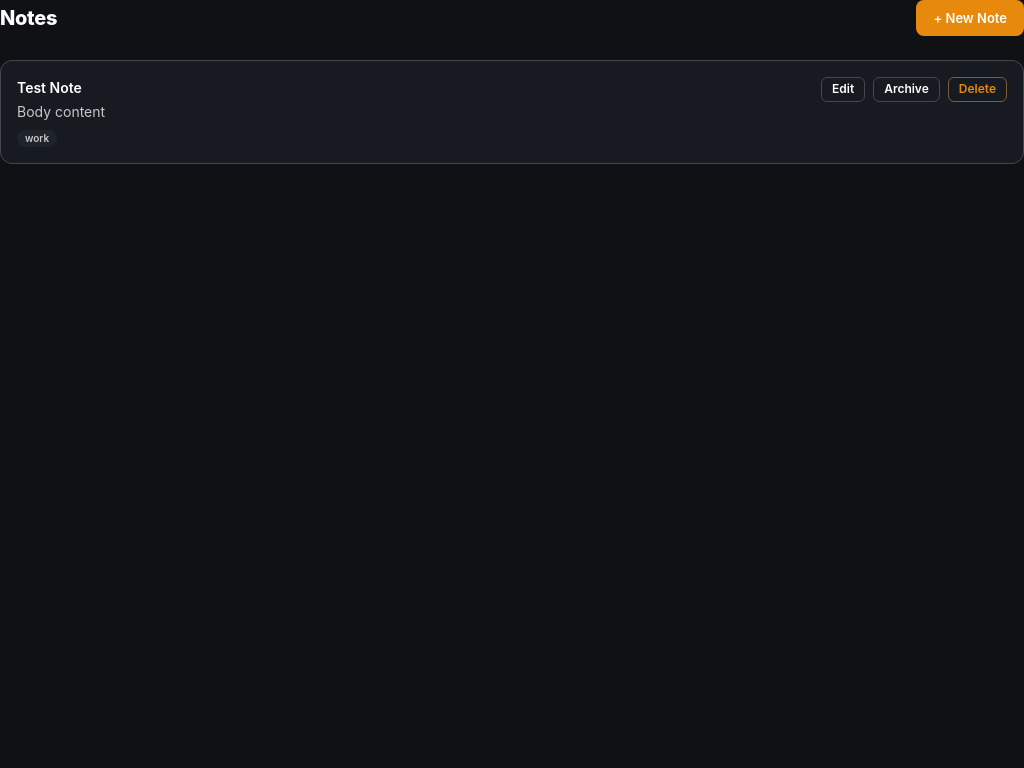
it: Notes page › + New Note button opens create modal
The image size is (1024, 768).
Click the button "+ New Note".
click(970, 18)  # box [916, 0, 1023, 36]
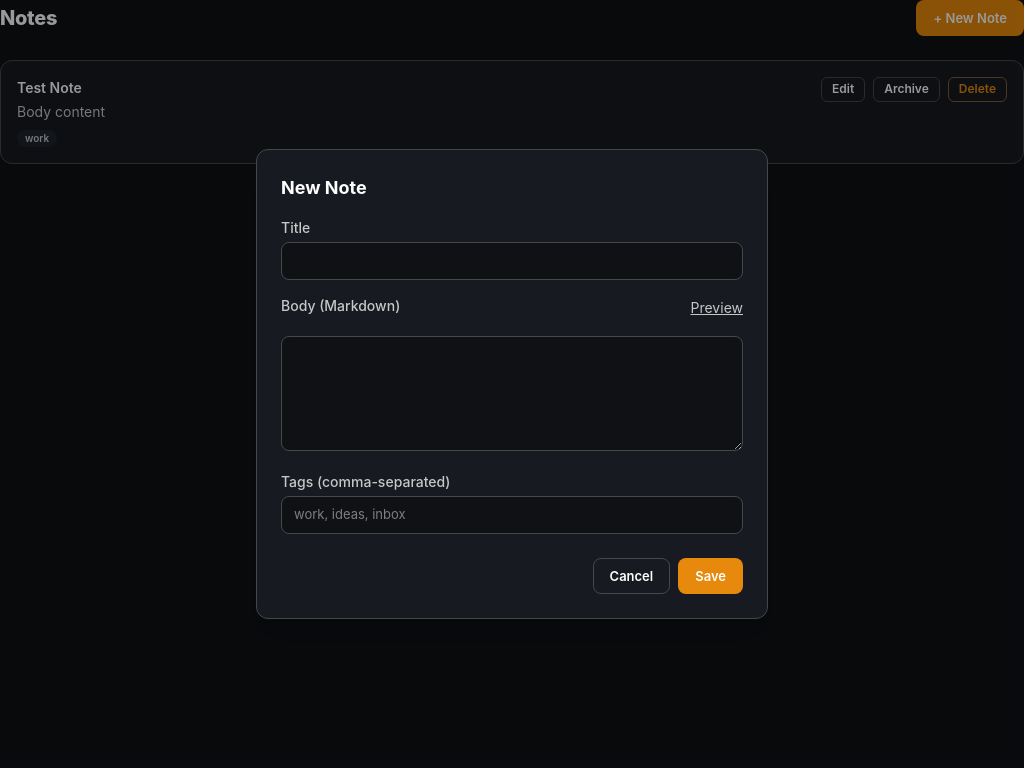
Expected: the heading "New Note" is shown, [281, 177, 367, 198]
Expected: the button "Save" is shown, [678, 558, 743, 594]
